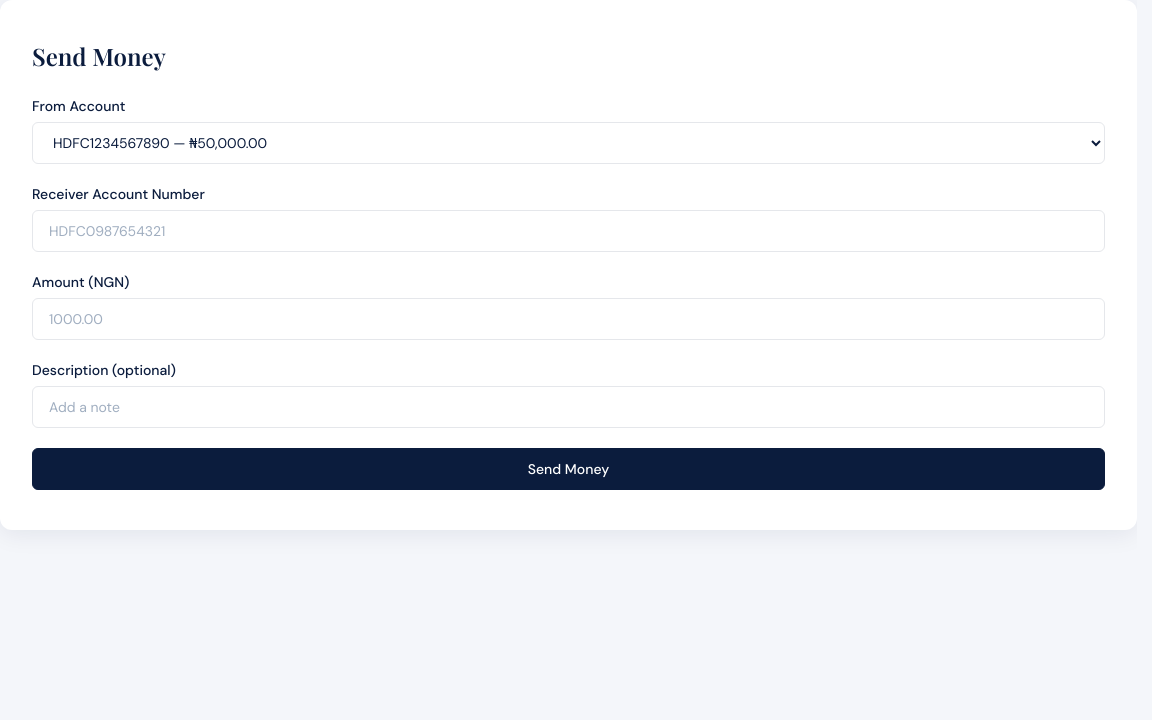
Test case: TransferForm › should show validation error when account number format is invalid
Type "INVALID123" into the field labelled "Receiver Account Number".
click(568, 231); type("INVALID123")  # box [32,210,1105,252]
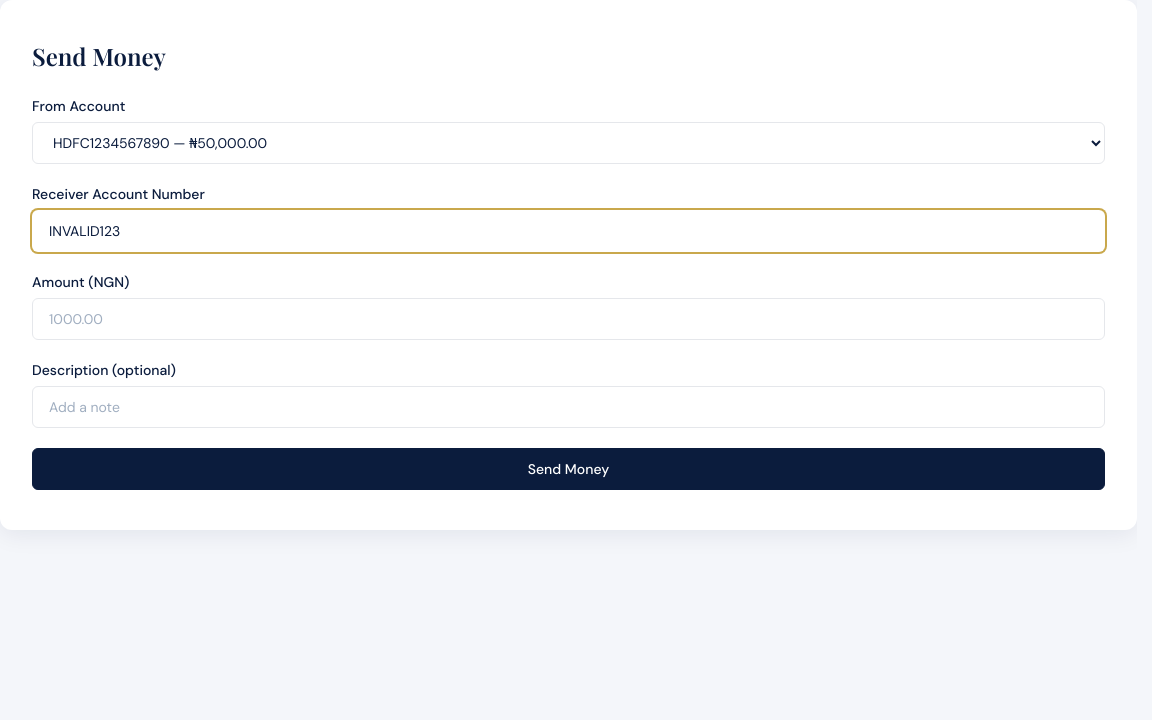
Click the button "Send Money".
click(568, 469)  # box [32,448,1105,490]
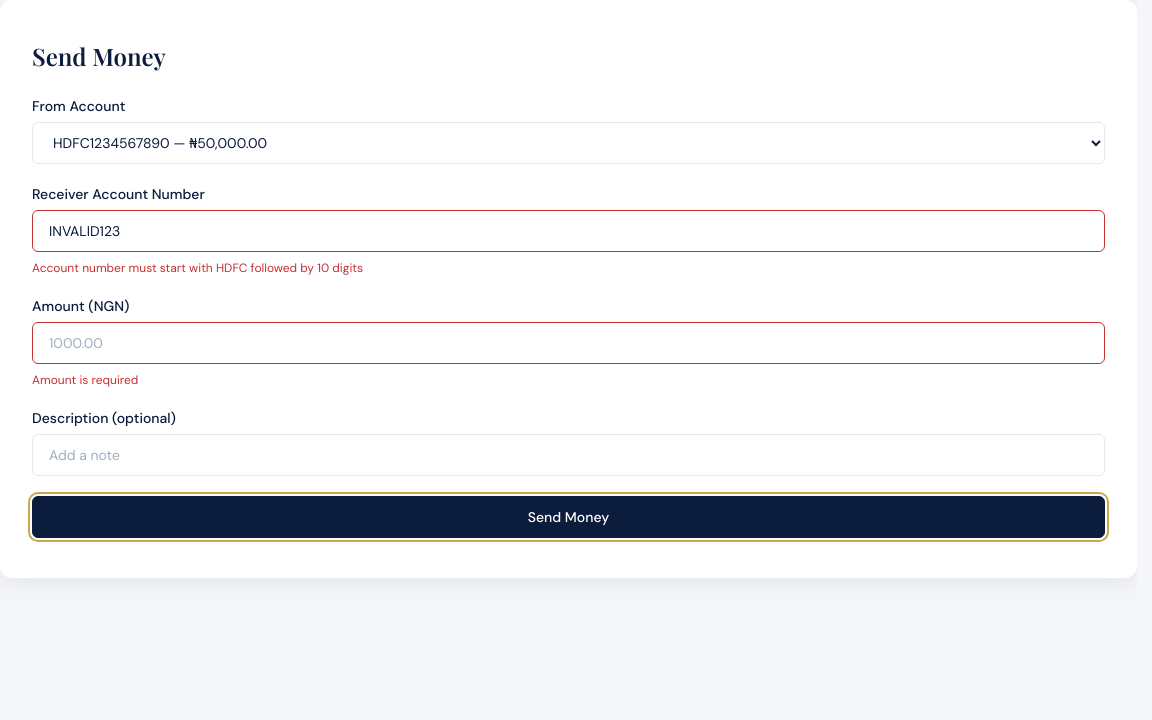
Expected: the text "Account number must start with HDFC followed by 10 digits" is shown, [32,260,363,276]
